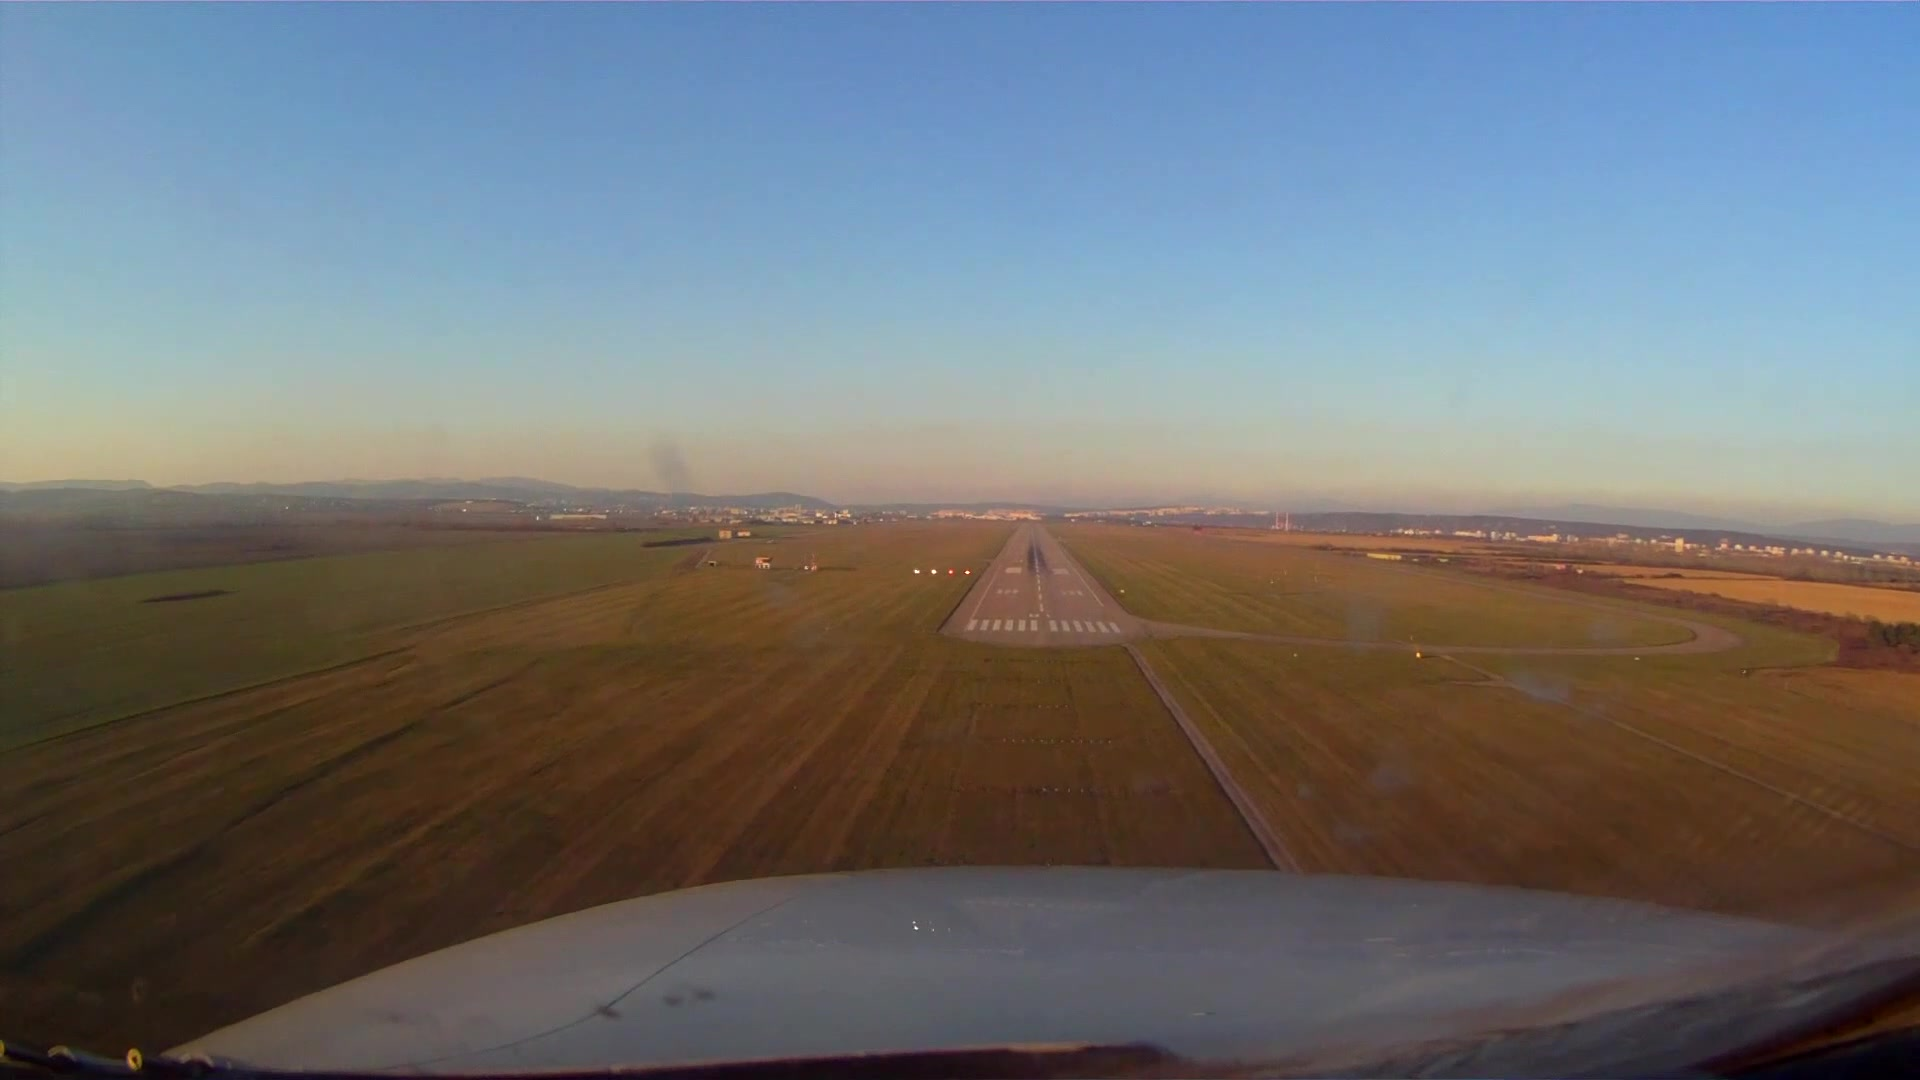entrance: (965, 616, 1118, 634)
runway: (939, 522, 1150, 644)
